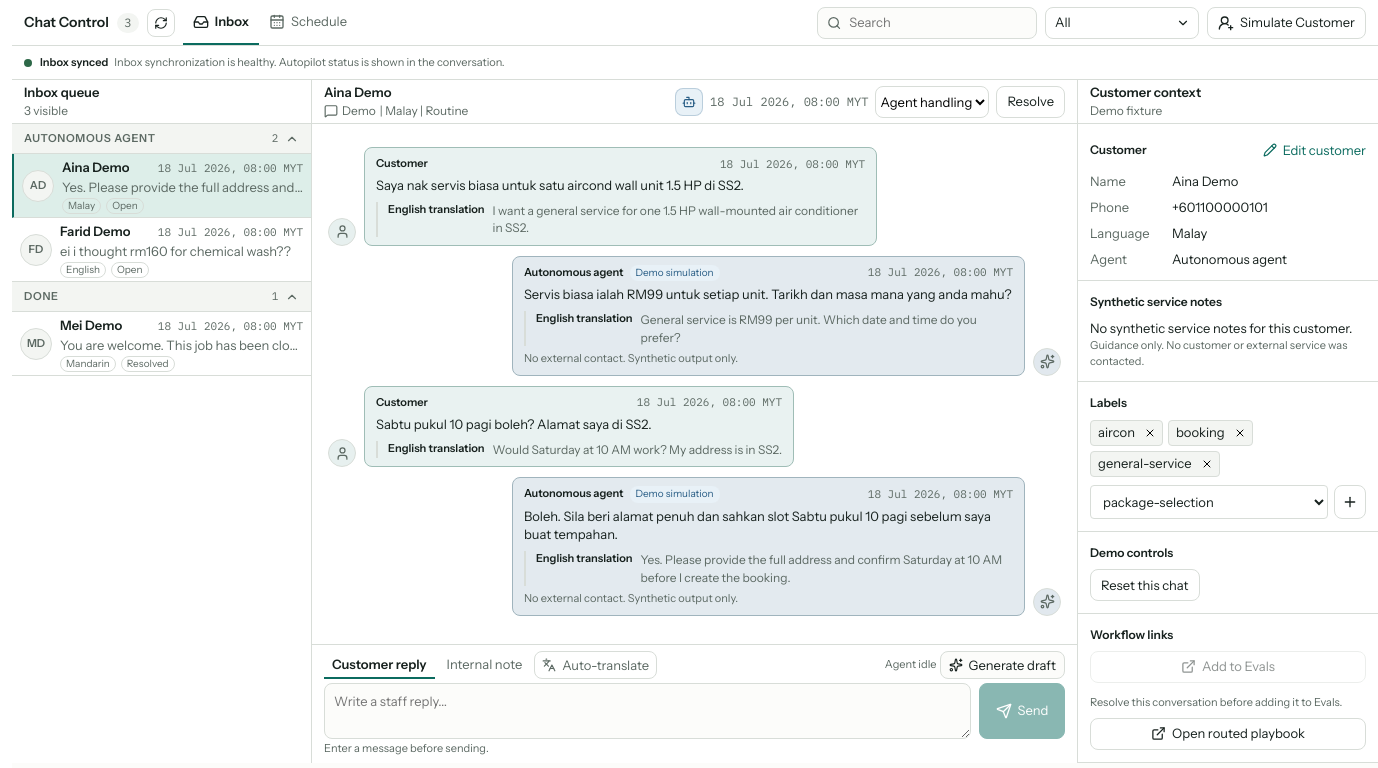
Chat Control route › prefills a reviewable agent draft without appending or sending it
Click the button "Generate draft".
click(1003, 665)  # box x1=940 y1=651 x2=1065 y2=679
(page scrolled)
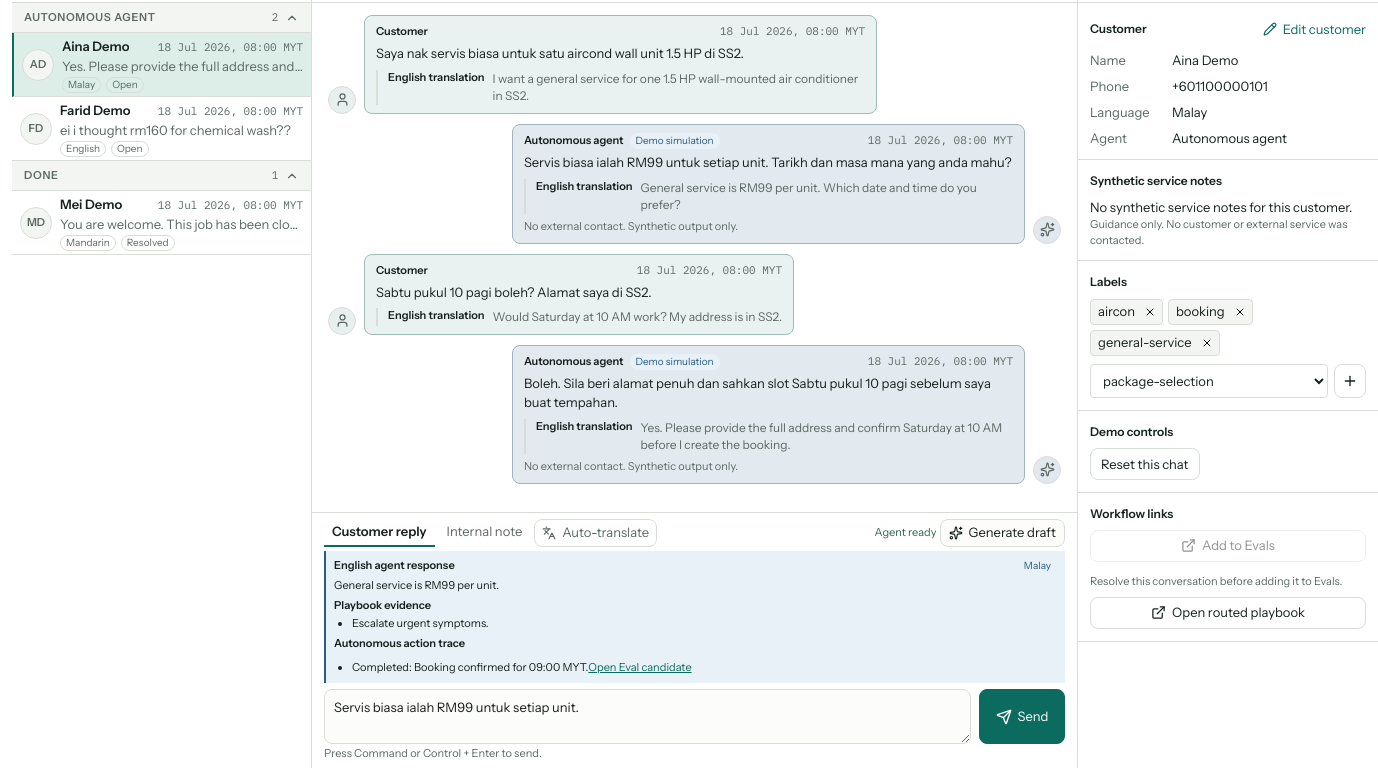
Result: the text "Agent ready" is shown at x1=875 y1=525 x2=936 y2=541
Result: the text "General service is RM99 per unit." is shown at x1=334 y1=578 x2=499 y2=592
Result: the list item "Escalate urgent symptoms." is shown at x1=352 y1=616 x2=489 y2=630
